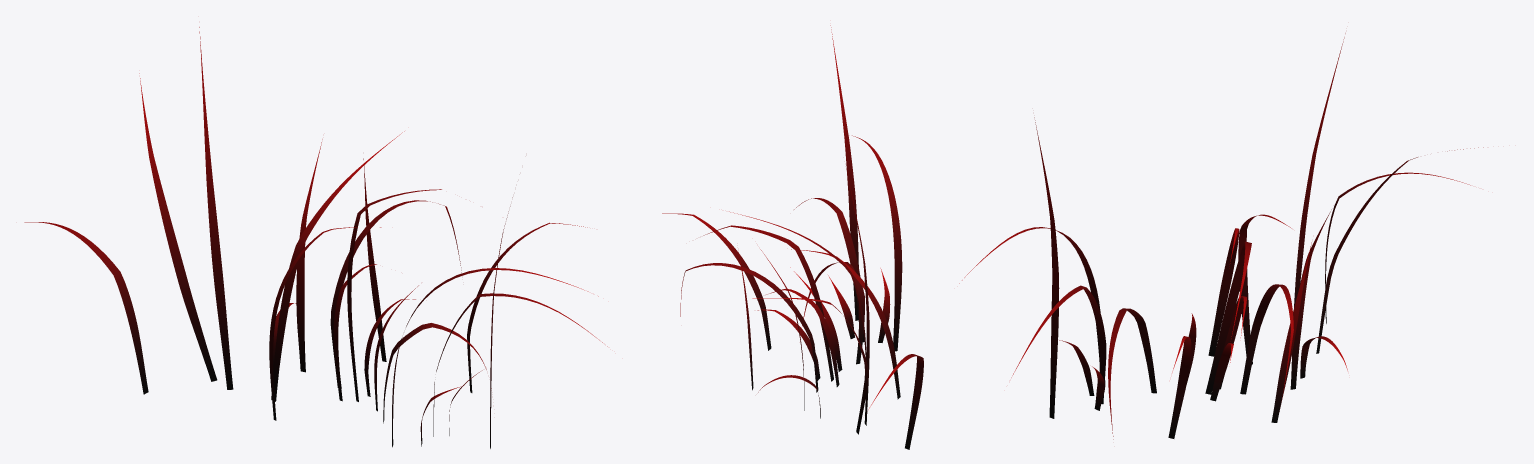
Rendered from vertex_grass.fbx.
The picture shows the model from 3 angles, left to right: view 1: azimuth 30°, elevation 25°; view 2: azimuth 150°, elevation 25°; view 3: azimuth 270°, elevation 25°; orthographic projection. The views are drawn at different scales.
Parts seen in each view (by area): view 1: normal7; view 2: normal7; view 3: normal7.
Part boxes in pixels (box(x1,y1,x2,y2)): normal7: box(24, 27, 607, 448); normal7: box(662, 25, 923, 449); normal7: box(959, 33, 1483, 439).
Bounding box in the file's own units: 191 × 158 × 230.
